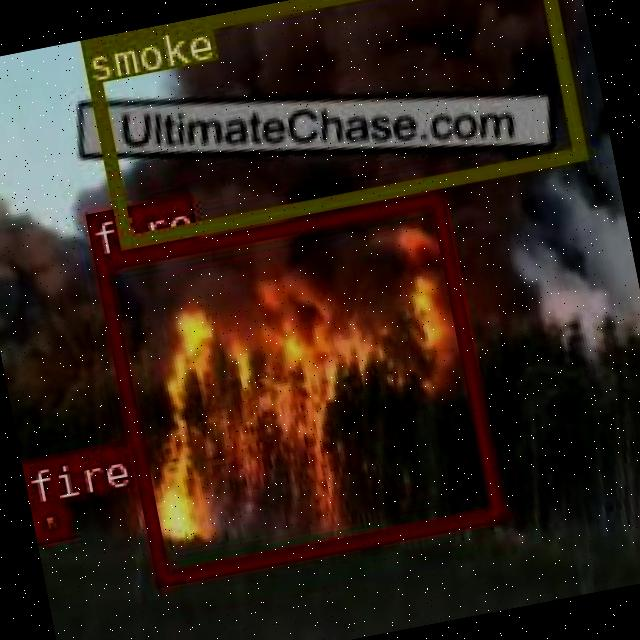fire: (92, 191, 503, 584), (30, 498, 68, 543)
smoke: (79, 0, 584, 246)
